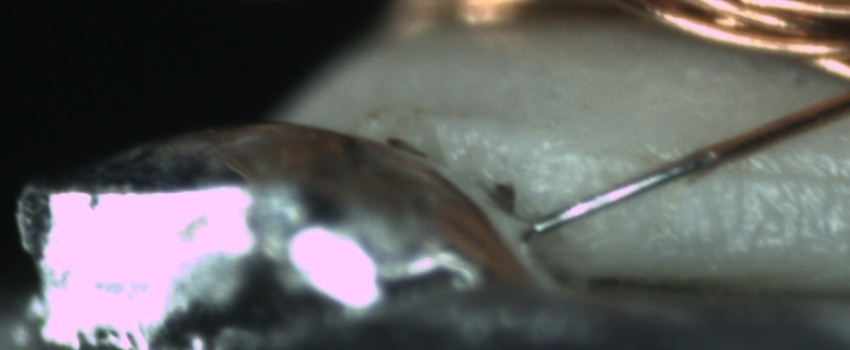DL: (536, 140, 849, 201)
TS: (532, 148, 717, 234)
